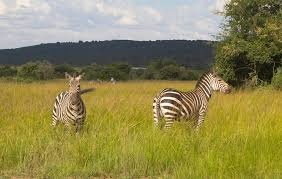zebra: (140, 67, 235, 141), (48, 68, 96, 141)
